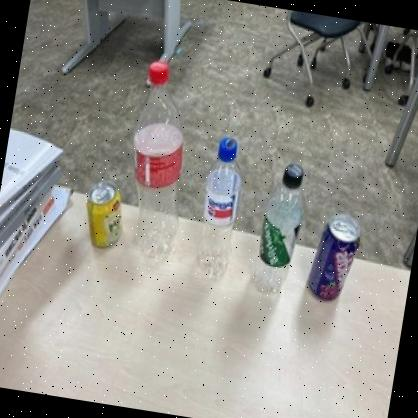bottle: (113, 54, 207, 274), (245, 156, 315, 301), (190, 127, 254, 285)
cap: (213, 135, 240, 164), (143, 60, 171, 87), (279, 162, 304, 188)
label: (126, 140, 188, 193), (254, 220, 300, 271), (204, 189, 241, 226)
